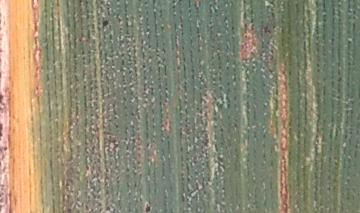tarspot: (97, 16, 112, 29), (142, 200, 153, 213)
